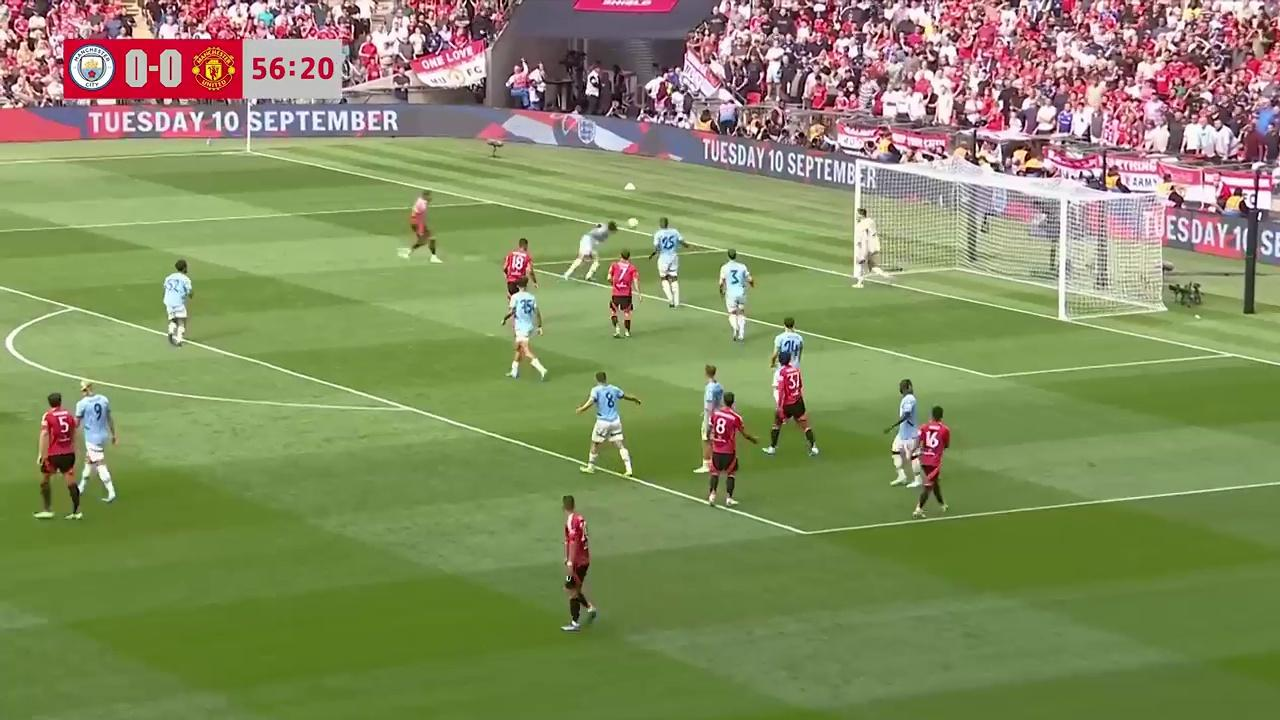ball: (627, 217, 640, 230)
player: (699, 395, 763, 509), (575, 371, 640, 473), (71, 375, 117, 516), (36, 393, 80, 518), (766, 357, 820, 456), (561, 495, 597, 632), (910, 404, 950, 519), (503, 288, 548, 381), (886, 377, 920, 488), (649, 217, 687, 308), (605, 251, 640, 338), (719, 249, 751, 343), (564, 221, 612, 282), (502, 237, 536, 322), (404, 192, 443, 264), (163, 259, 193, 347), (886, 409, 919, 488), (701, 364, 732, 439), (769, 318, 804, 381), (852, 210, 877, 288)
